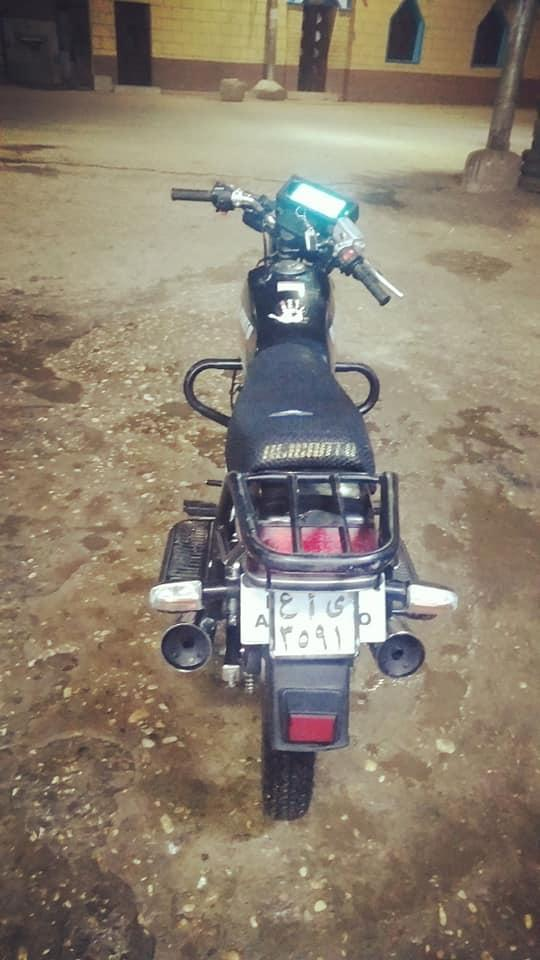License Plate: (264, 572, 367, 659)
